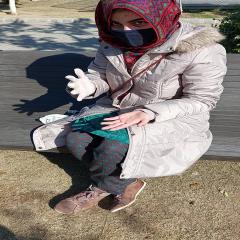gloved: (66, 69, 95, 100)
not-gloved: (100, 111, 150, 132)
